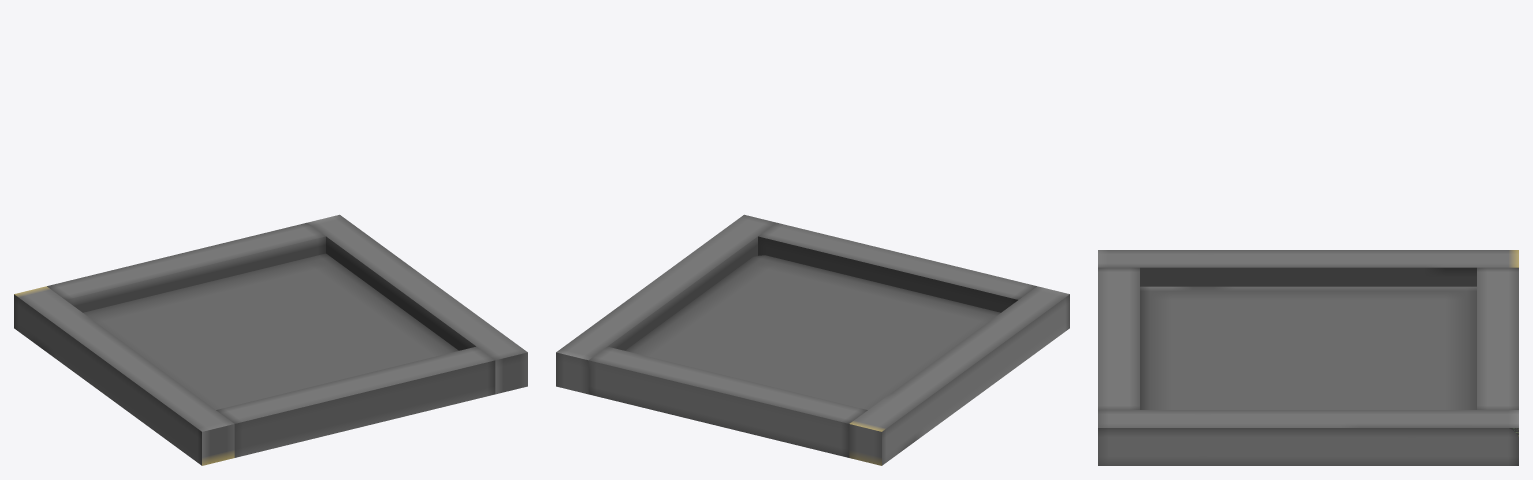
Rendered from rotatePad-unlit-0.fbx.
The picture shows the model from 3 angles, left to right: view 1: azimuth 30°, elevation 25°; view 2: azimuth 150°, elevation 25°; view 3: azimuth 270°, elevation 25°; orthographic projection. The views are drawn at different scales.
Visible parts, largest first — view 1: cube, cube_4, cube_2, cube_1, cube_3; view 2: cube, cube_3, cube_2, cube_1, cube_4; view 3: cube, cube_1, cube_2, cube_3, cube_4.
Boxes of the visible parts, x1,y1,x2,y2 form: cube: (83, 253, 458, 409); cube_4: (216, 346, 495, 457); cube_2: (14, 286, 234, 465); cube_1: (308, 214, 527, 394); cube_3: (47, 222, 325, 312); cube: (625, 255, 1000, 409); cube_3: (588, 346, 867, 457); cube_2: (849, 286, 1069, 465); cube_1: (556, 214, 775, 394); cube_4: (758, 222, 1036, 312); cube: (1140, 286, 1476, 409); cube_1: (1098, 410, 1518, 465); cube_2: (1098, 250, 1518, 286); cube_3: (1477, 267, 1518, 436); cube_4: (1098, 267, 1139, 409).
Bounding box in the file's own units: 62.5 × 50 × 62.5.
